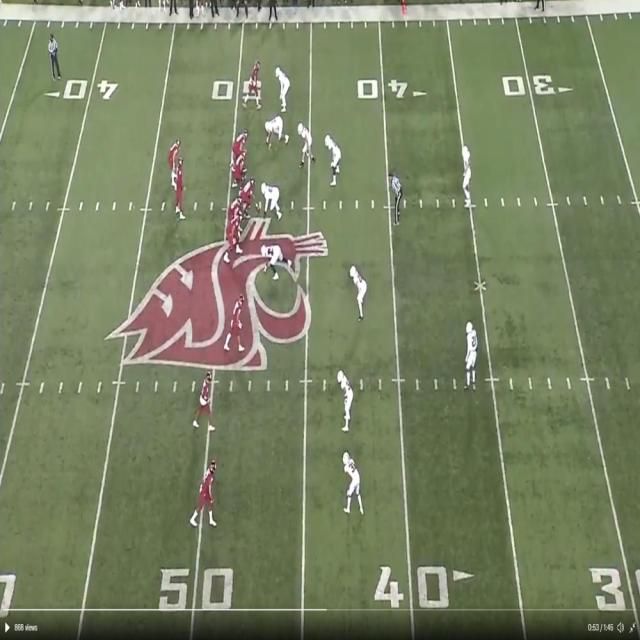center: (242, 182, 257, 220)
db: (346, 454, 364, 516), (341, 373, 355, 432), (351, 264, 366, 316), (468, 320, 478, 382), (276, 64, 288, 106), (461, 143, 470, 190)
lb: (325, 134, 341, 182), (298, 122, 312, 163)
qb: (175, 156, 187, 218)
skill: (193, 461, 220, 526), (226, 296, 244, 354), (196, 374, 214, 432), (249, 60, 261, 101), (171, 136, 182, 167)
